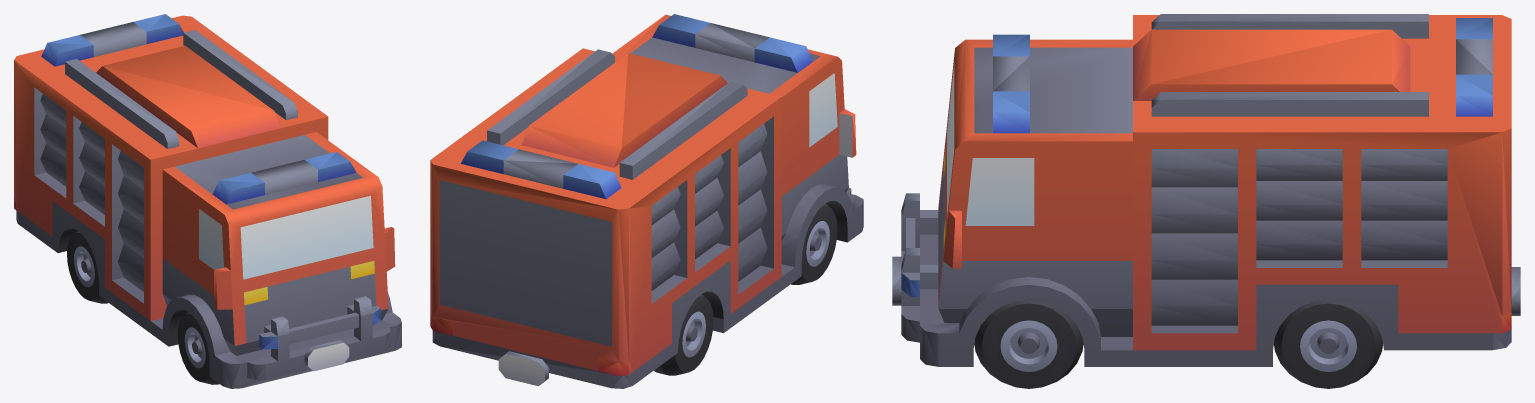
File: car_firetruck.fbx
3 renders of one model, left to right at view 1: azimuth 30°, elevation 25°; view 2: azimuth 150°, elevation 25°; view 3: azimuth 270°, elevation 25°, orthographic. The views are drawn at different scales.
Visible parts, largest first — view 1: car_firetruck_LOD0; view 2: car_firetruck_LOD0; view 3: car_firetruck_LOD0.
Boxes of the visible parts, bbox=[...] form: car_firetruck_LOD0: bbox=[14, 14, 401, 388]; car_firetruck_LOD0: bbox=[430, 14, 863, 388]; car_firetruck_LOD0: bbox=[892, 14, 1520, 388].
Size of what is drawn, in the model's own units: 2.64 by 2.99 by 5.98.
1 material, 1 textured.
